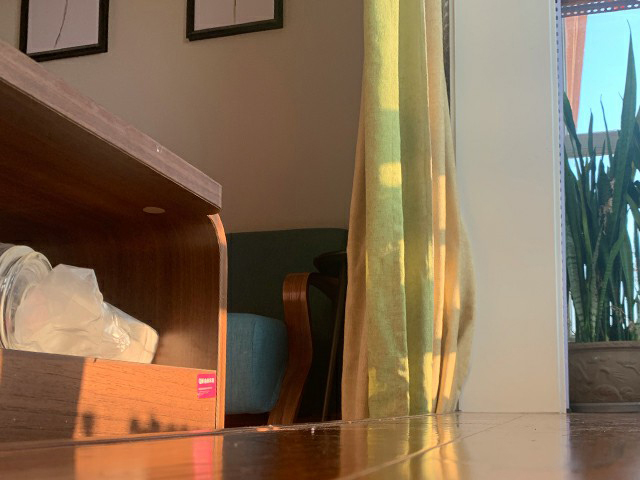curtain: (340, 1, 476, 421)
sofa: (222, 227, 350, 427)
table: (1, 40, 227, 440)
